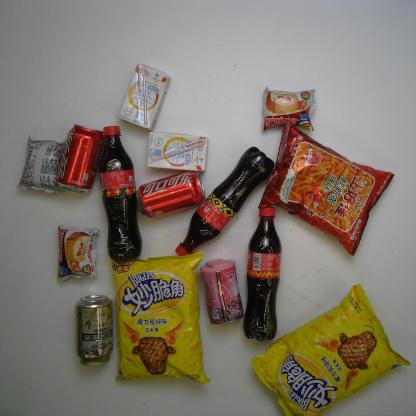Alcohol: (75, 295, 113, 366)
Canned Food: (200, 260, 244, 325)
Dessert: (16, 134, 64, 196), (260, 86, 316, 132), (57, 225, 100, 283)
Drink: (175, 146, 275, 259), (98, 126, 142, 263), (243, 206, 282, 341), (56, 124, 104, 193), (135, 172, 205, 218)
Milk: (118, 64, 170, 132), (147, 131, 210, 172)
Puffed Food: (250, 284, 410, 416), (258, 121, 394, 256), (104, 251, 212, 384)
